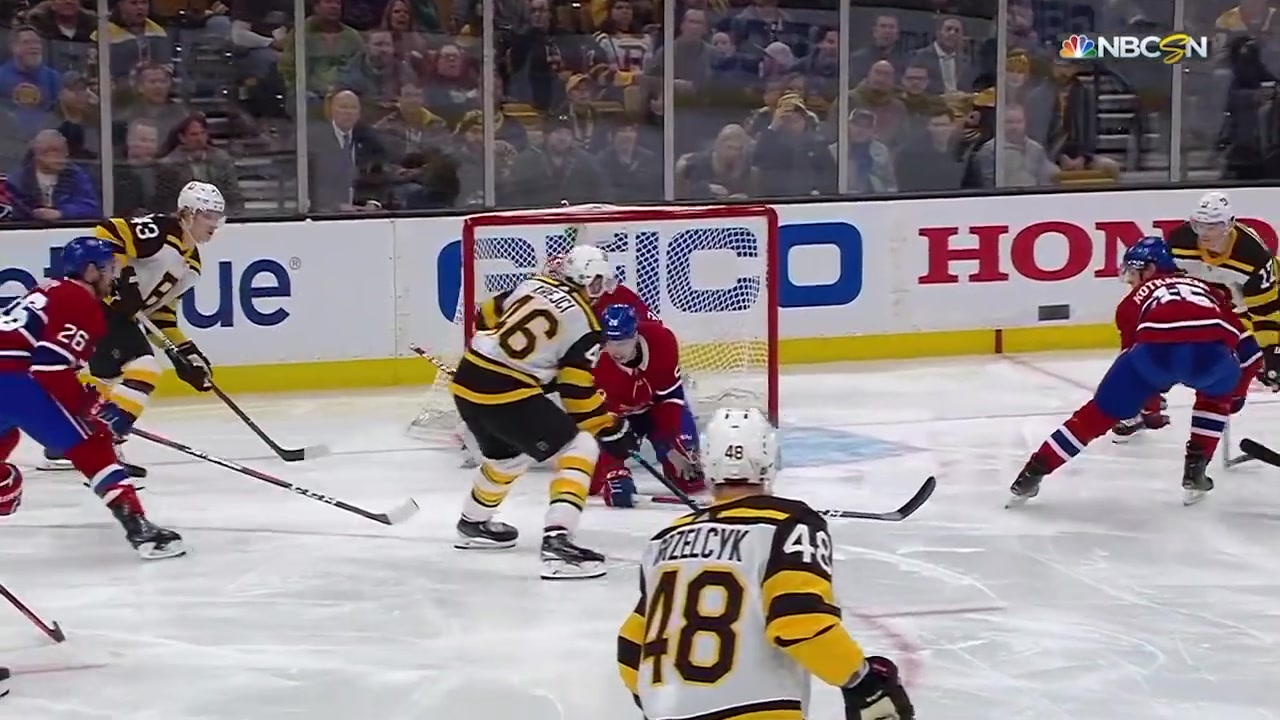geico: (433, 200, 904, 334)
